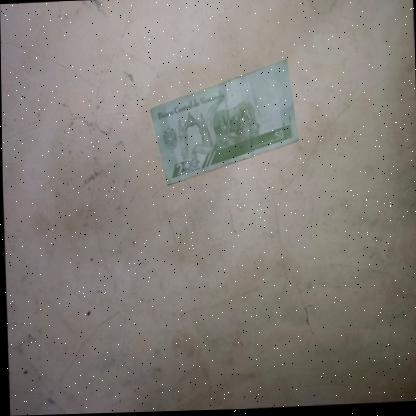fifty-back-vef: (147, 60, 300, 187)
